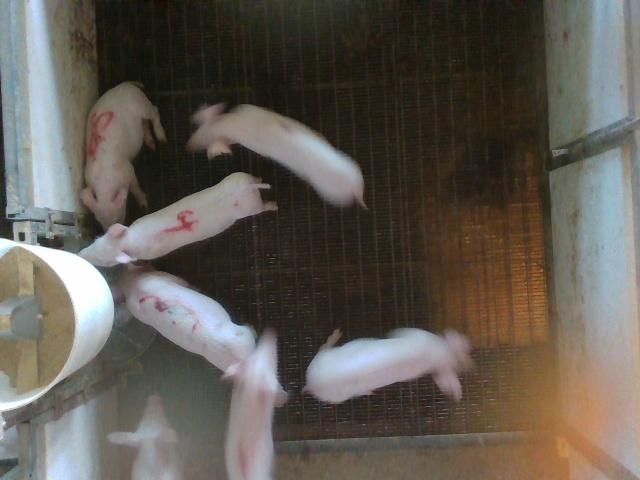pig-1: (225, 329, 288, 479)
pig-2: (188, 104, 365, 207)
pig-3: (120, 264, 255, 371)
pig-4: (79, 172, 276, 266)
pig-5: (80, 82, 166, 229)
